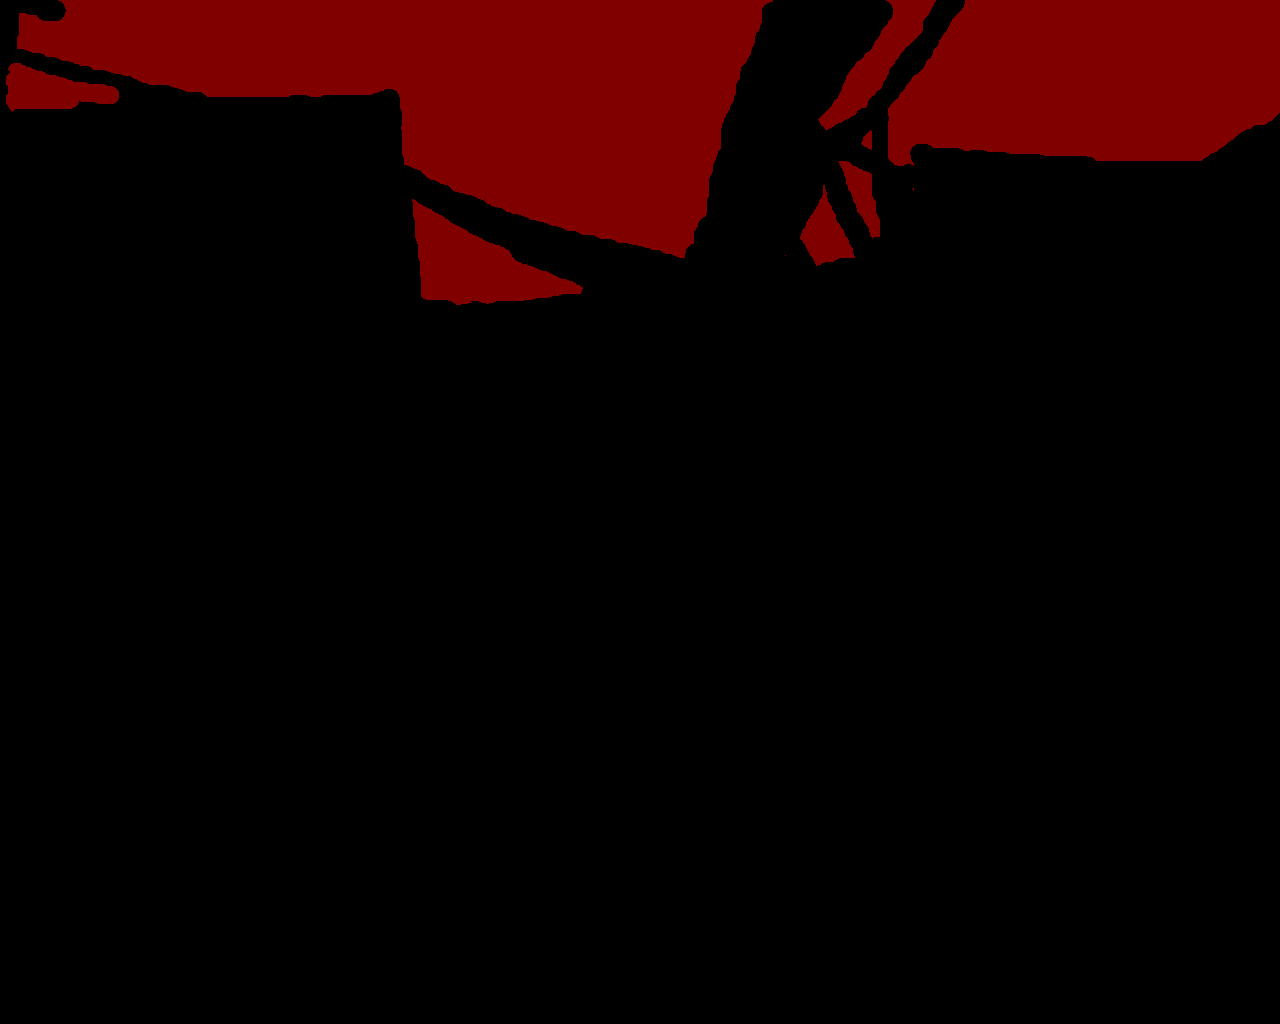Sky: (7, 1, 1279, 305)
